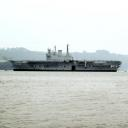Portanaves: (10, 43, 123, 73)
